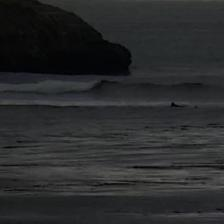surfer: (171, 102, 198, 109)
